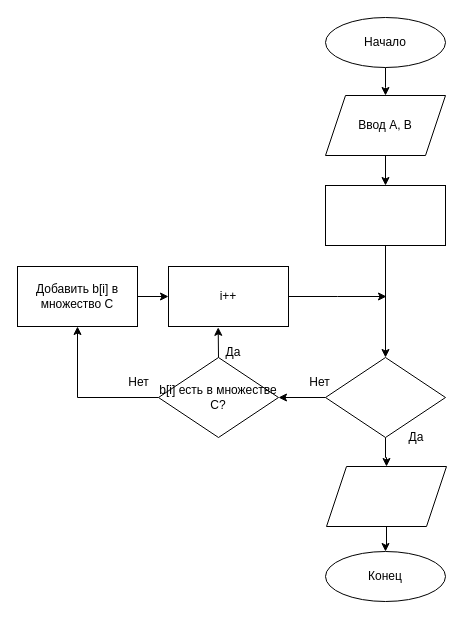
Some shapes in this 464 by 619 pixel diagram are drawn without their labels. Here are the shapes that lost their labels. From the top down, the box of each, then its label:
(324, 184, 446, 246): Новый массив C = A; i = 0
(324, 356, 446, 438): i == длина B
(326, 466, 446, 526): Вывод C
